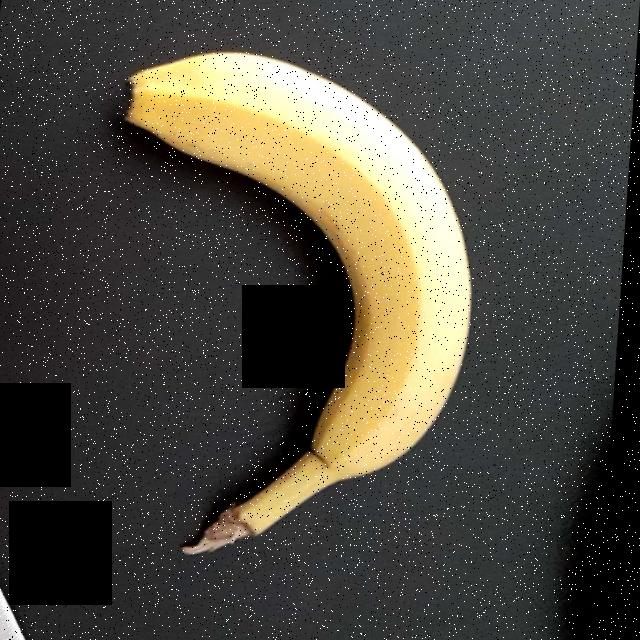banana: (166, 56, 465, 548)
